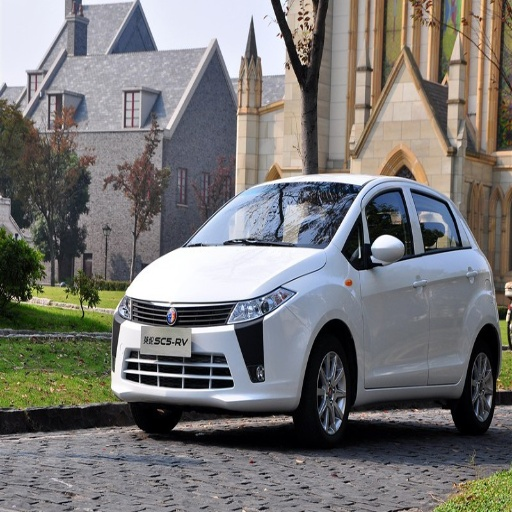front_bumper: (115, 289, 316, 414)
front_glass: (186, 182, 356, 248)
front_left_door: (360, 184, 429, 385)
